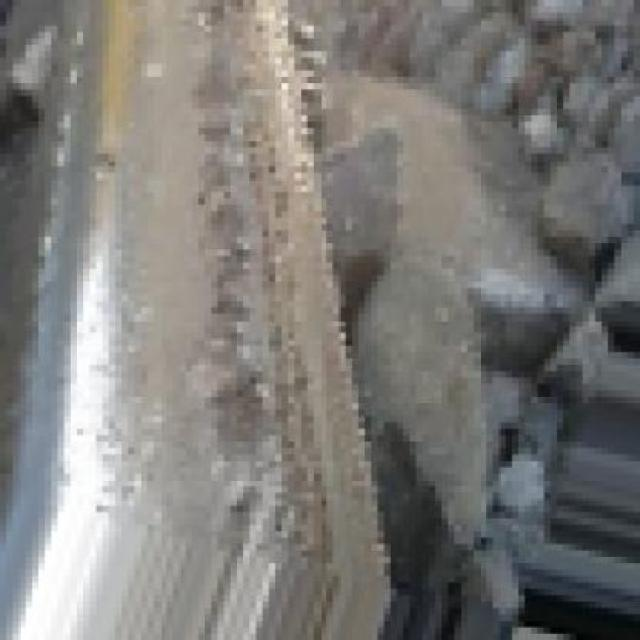defective: (9, 0, 398, 637)
